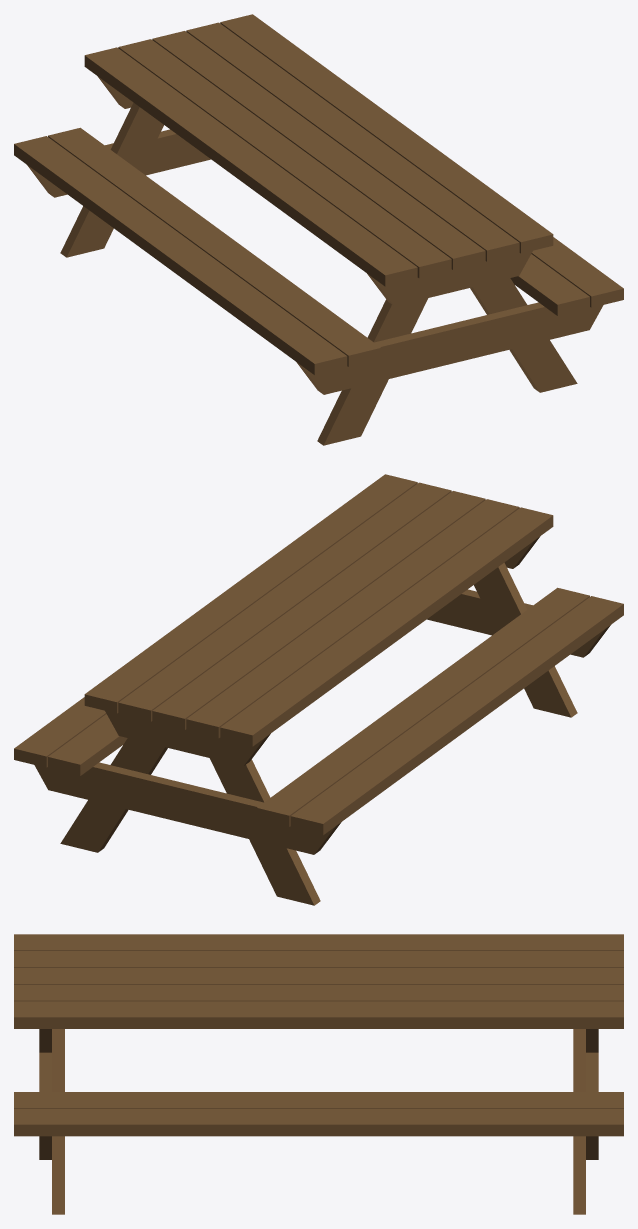
The model's file is picnic_table2.dae.
3 renders of one model, top to bottom at view 1: azimuth 30°, elevation 25°; view 2: azimuth 150°, elevation 25°; view 3: azimuth 270°, elevation 25°, orthographic.
Visible parts, largest first — view 1: group_10, group_15, group_6, group_7, group_8, group_9, group_16, group_2, group_22, group_19, group_21, group_1 (+3 smaller); view 2: group_10, group_15, group_6, group_7, group_8, group_9, group_16, group_4, group_19, group_22, group_18, group_3 (+3 smaller); view 3: group_12, group_6, group_7, group_8, group_9, group_10, group_13, group_18, group_21, group_2, group_4.
Boxes of the visible parts, x1,y1,x2,y2 form: group_10: [84, 47, 417, 286]; group_15: [14, 136, 347, 375]; group_6: [220, 14, 553, 253]; group_7: [186, 22, 519, 261]; group_8: [152, 31, 485, 269]; group_9: [118, 39, 451, 278]; group_16: [48, 127, 381, 366]; group_2: [296, 302, 603, 394]; group_22: [317, 298, 428, 445]; group_19: [60, 102, 163, 257]; group_21: [470, 278, 577, 392]; group_1: [367, 250, 532, 306]; group_10: [220, 507, 553, 746]; group_15: [290, 596, 623, 835]; group_6: [84, 474, 417, 713]; group_7: [118, 482, 451, 721]; group_8: [152, 491, 485, 729]; group_9: [186, 499, 519, 738]; group_16: [256, 587, 589, 826]; group_4: [34, 762, 341, 854]; group_19: [209, 758, 320, 905]; group_22: [474, 562, 577, 717]; group_18: [60, 738, 167, 852]; group_3: [105, 710, 270, 766]; group_12: [14, 1108, 623, 1136]; group_6: [14, 1001, 623, 1028]; group_7: [14, 984, 623, 1001]; group_8: [14, 967, 623, 984]; group_9: [14, 951, 623, 967]; group_10: [14, 934, 623, 950]; group_13: [14, 1092, 623, 1108]; group_18: [573, 1029, 585, 1214]; group_21: [52, 1029, 64, 1214]; group_2: [39, 1052, 51, 1159]; group_4: [586, 1052, 598, 1159].
Size of the model in its own units: 57 by 96 by 30.58.
